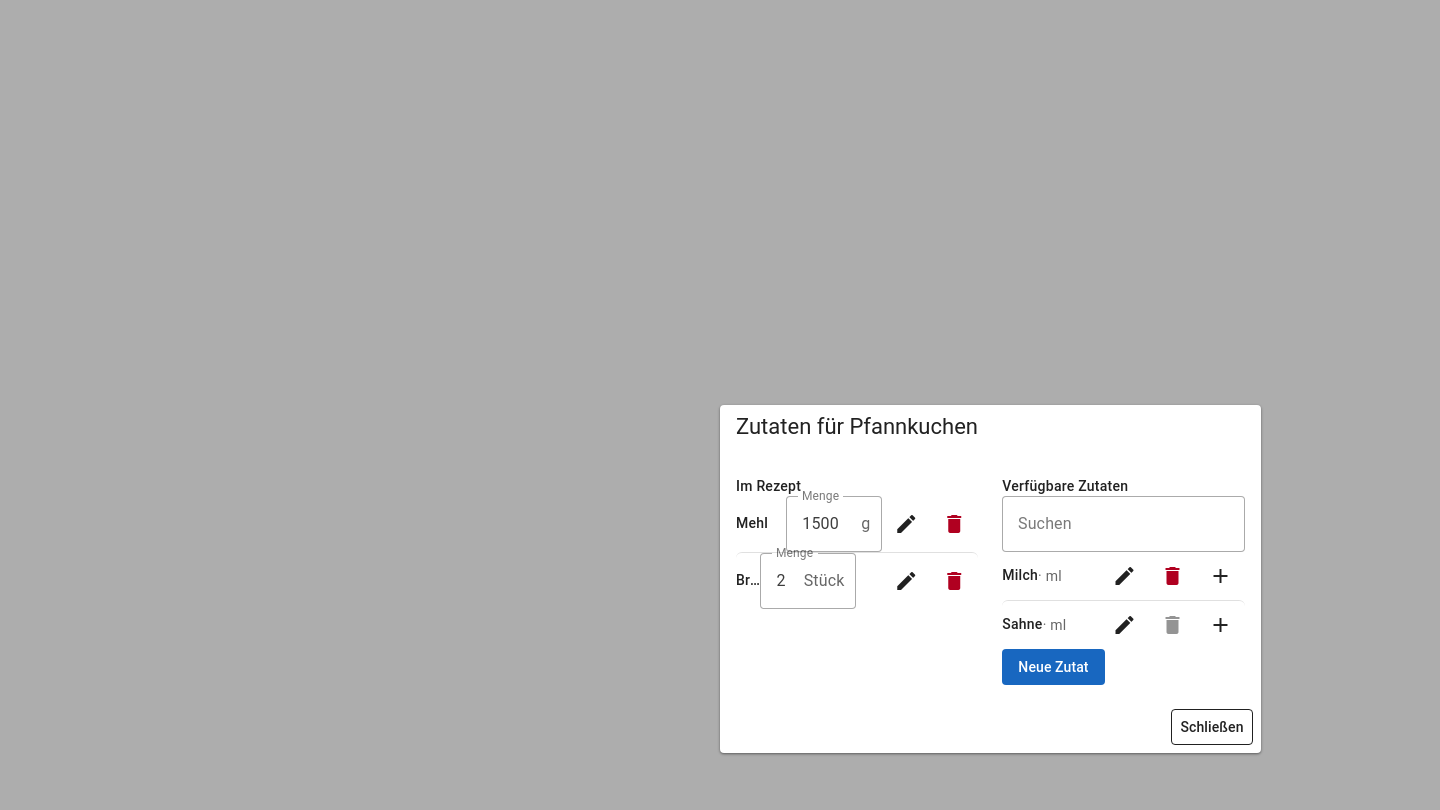
Scenario: a recipe line whose amount is refused › shows under that line that the amount is not a number, sends nothing and keeps what was typed
expect the element with test id "recipe-line" showing "Mehl g Menge" is shown: met, box [736,496,978,552]
Replace the text in the 1st field labelled "Menge" with "viel" at (824, 524), box [786,496,861,552]
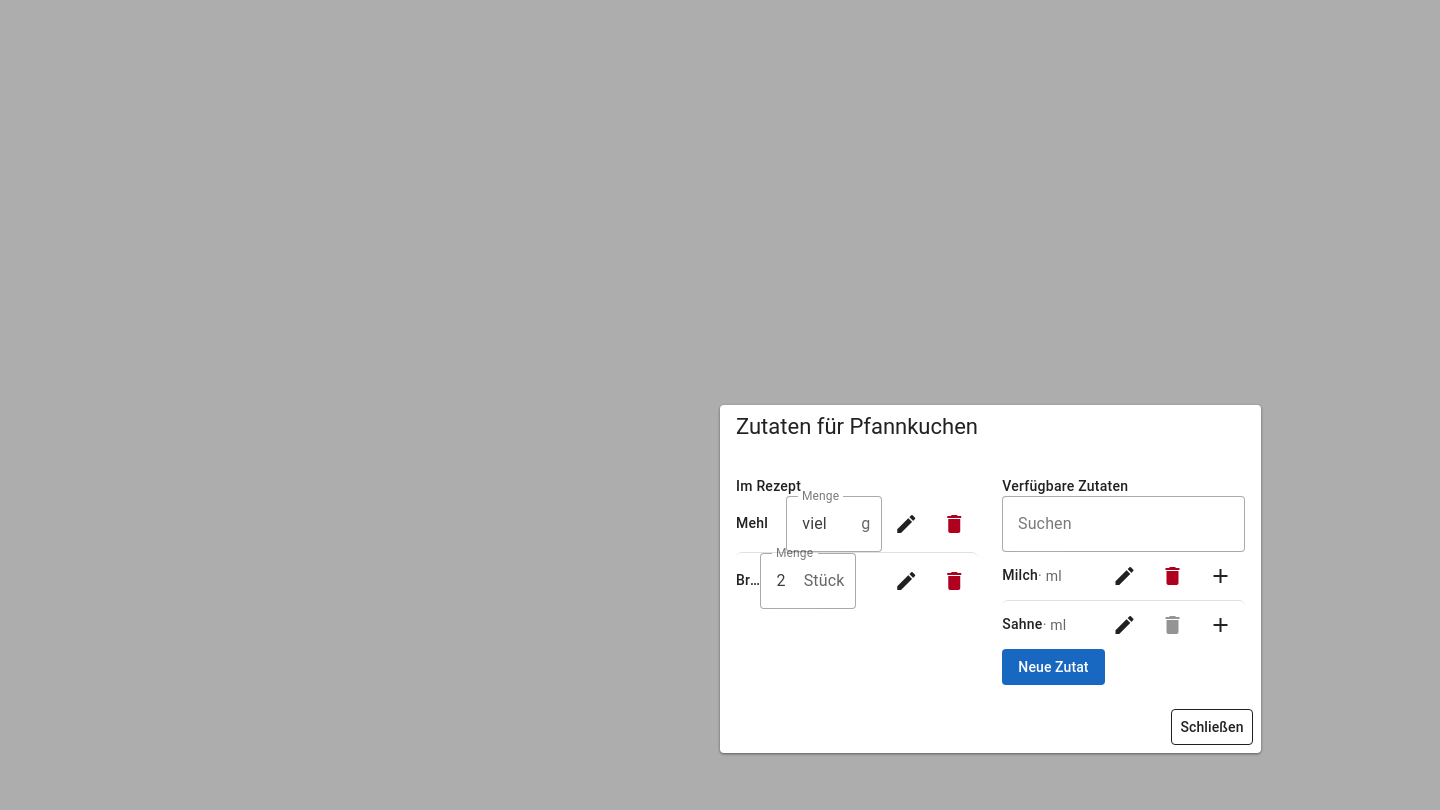
Leave the 1st field labelled "Menge", box [786,496,861,552]
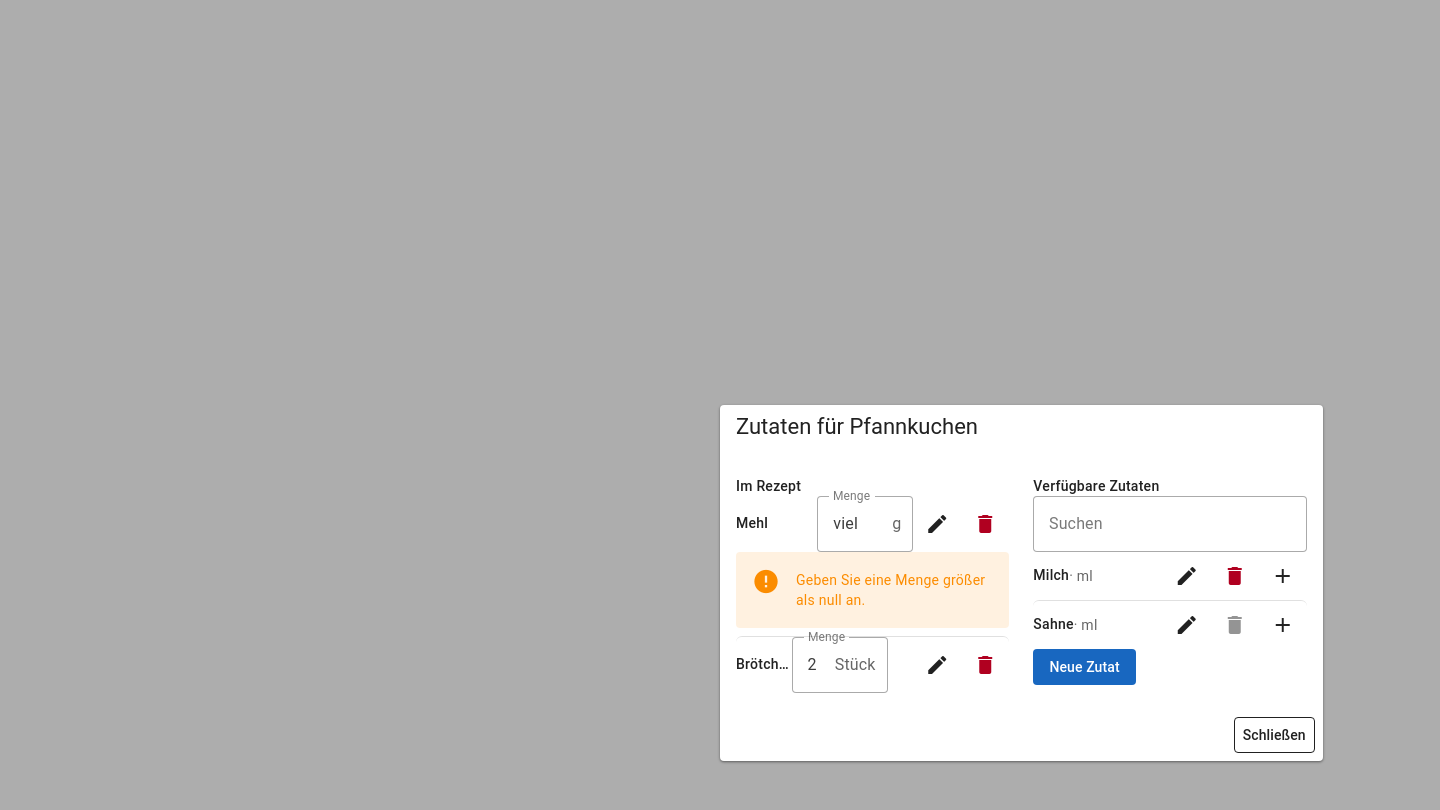
expect the element showing "Geben Sie eine Menge größer als null an." is shown: met, box [736,552,1009,628]
